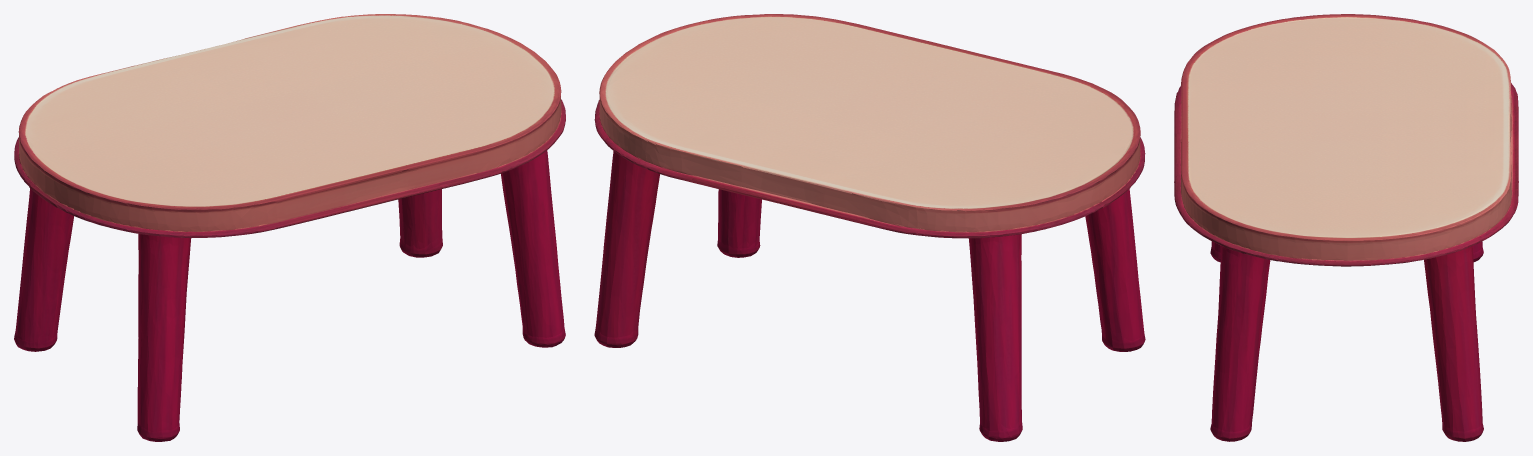
3 renders of one model, left to right at view 1: azimuth 30°, elevation 25°; view 2: azimuth 150°, elevation 25°; view 3: azimuth 270°, elevation 25°, orthographic. The views are drawn at different scales.
Visible parts, largest first — view 1: world; view 2: world; view 3: world.
Part boxes in pixels (x1=…): world: x1=14, y1=14, x2=565, y2=441; world: x1=594, y1=14, x2=1145, y2=441; world: x1=1174, y1=14, x2=1518, y2=441.
Size of the model in its own units: 100 by 44.64 by 63.59.
1 material, 1 textured.
